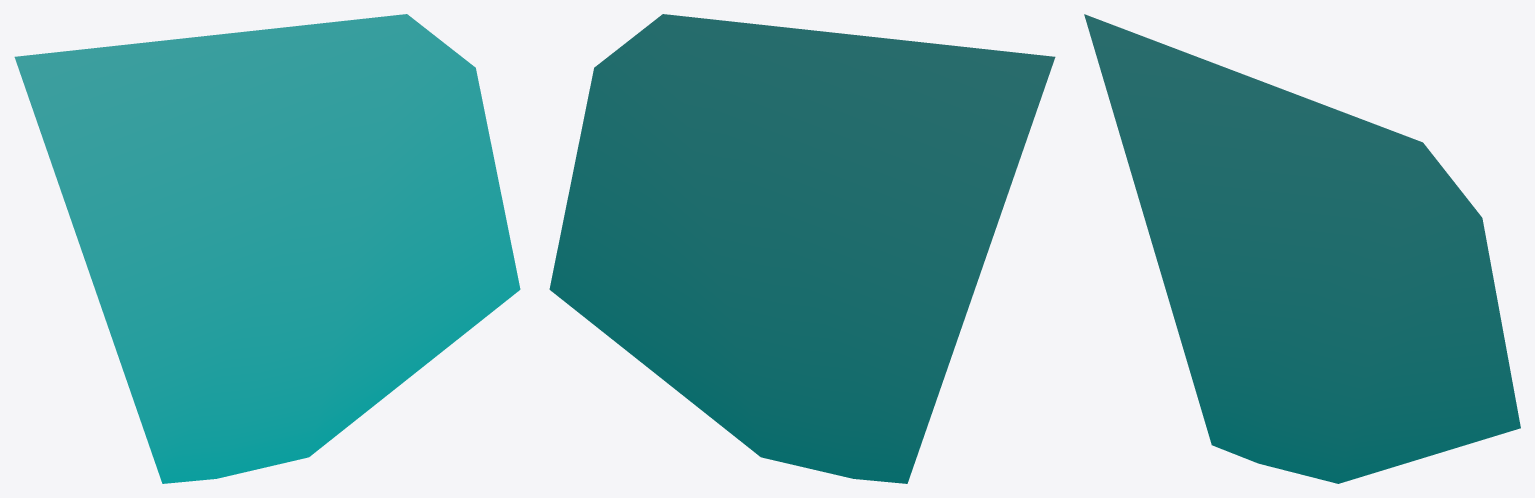
Rendered from uddmcgbia_VarF_LOD3.fbx.
The picture shows the model from 3 angles, left to right: view 1: azimuth 30°, elevation 25°; view 2: azimuth 150°, elevation 25°; view 3: azimuth 330°, elevation 25°; orthographic projection. The views are drawn at different scales.
Parts seen in each view (by area): view 1: _84fe_VarF_LOD4; view 2: _84fe_VarF_LOD4; view 3: _84fe_VarF_LOD4.
Part boxes in pixels (x1,y1,x2,y2): _84fe_VarF_LOD4: [14, 14, 520, 483]; _84fe_VarF_LOD4: [549, 14, 1055, 483]; _84fe_VarF_LOD4: [1084, 14, 1520, 483].
Size of the model in its own units: 47.2 by 42.11 by 0.
